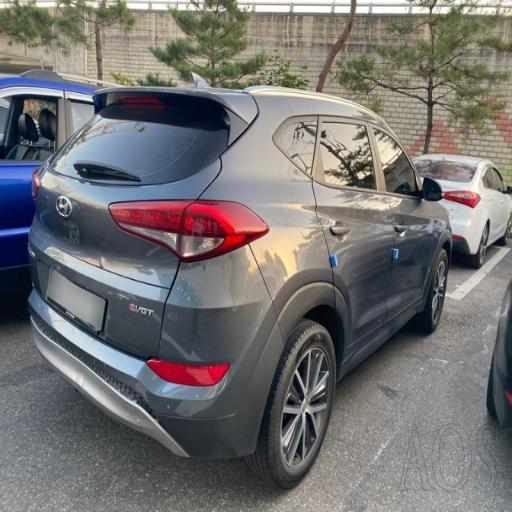dent: (36, 191, 236, 460)
